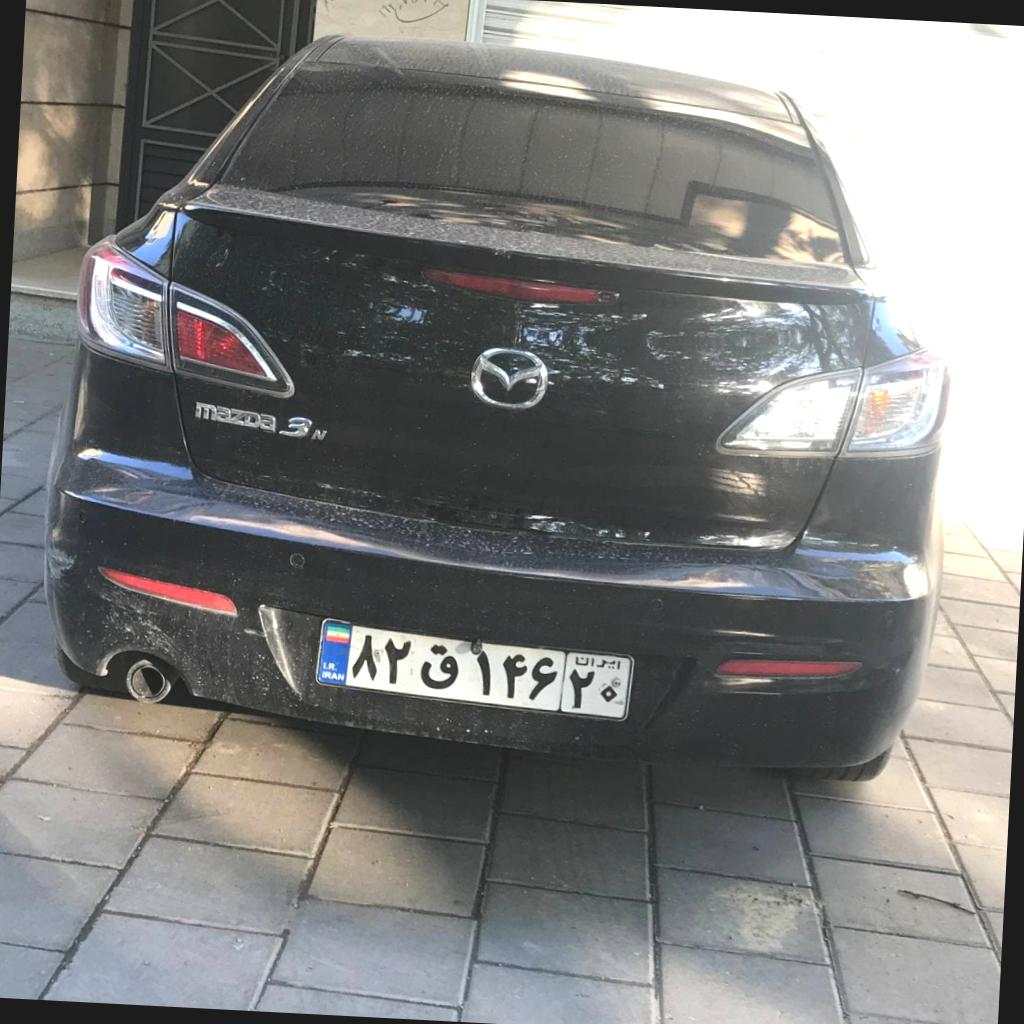Plates: (317, 620, 632, 719)
